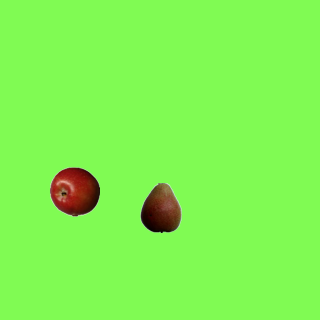Apple Braeburn: (49, 166, 99, 216)
Pear Forelle: (135, 182, 185, 232)
